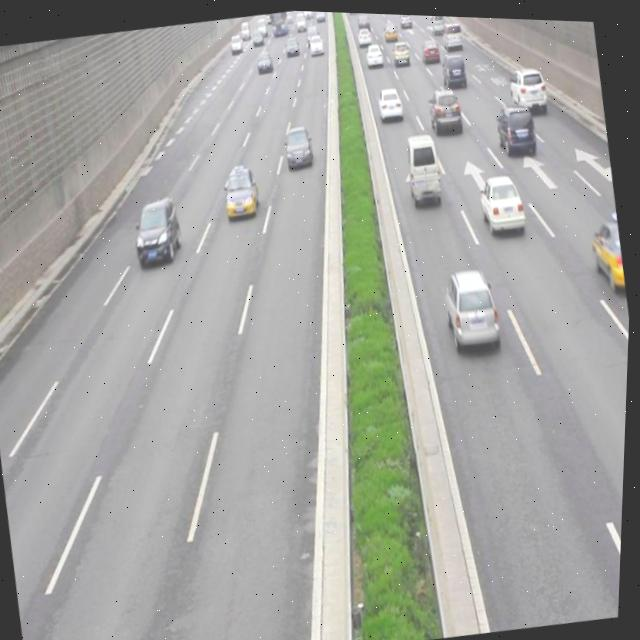car: (440, 264, 506, 354), (130, 197, 185, 266), (586, 207, 630, 292), (476, 168, 528, 237), (493, 96, 537, 159), (222, 161, 262, 219), (507, 61, 549, 114), (426, 81, 465, 132), (283, 121, 314, 167)
truck: (402, 129, 446, 206)
